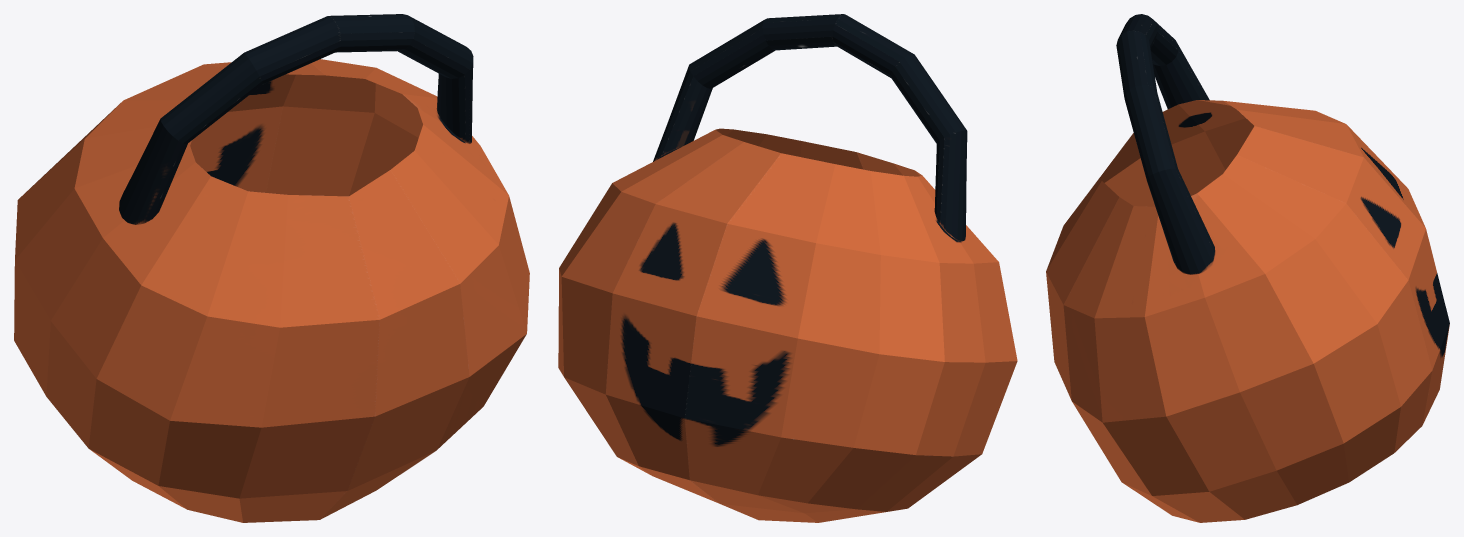
File: extraCalabazo.obj
The picture shows the model from 3 angles, left to right: view 1: azimuth 30°, elevation 25°; view 2: azimuth 150°, elevation 25°; view 3: azimuth 270°, elevation 25°; orthographic projection. The views are drawn at different scales.
Parts seen in each view (by area): view 1: calabazoCalabesta; view 2: calabazoCalabesta; view 3: calabazoCalabesta.
Boxes of the visible parts, box(x1,y1,x2,y2) form: calabazoCalabesta: box(14, 14, 529, 522); calabazoCalabesta: box(558, 14, 1017, 522); calabazoCalabesta: box(1046, 14, 1449, 522).
Bounding box in the file's own units: 0.9636 × 1.07 × 0.8432.
Materials: 1 (1 with a texture image).
